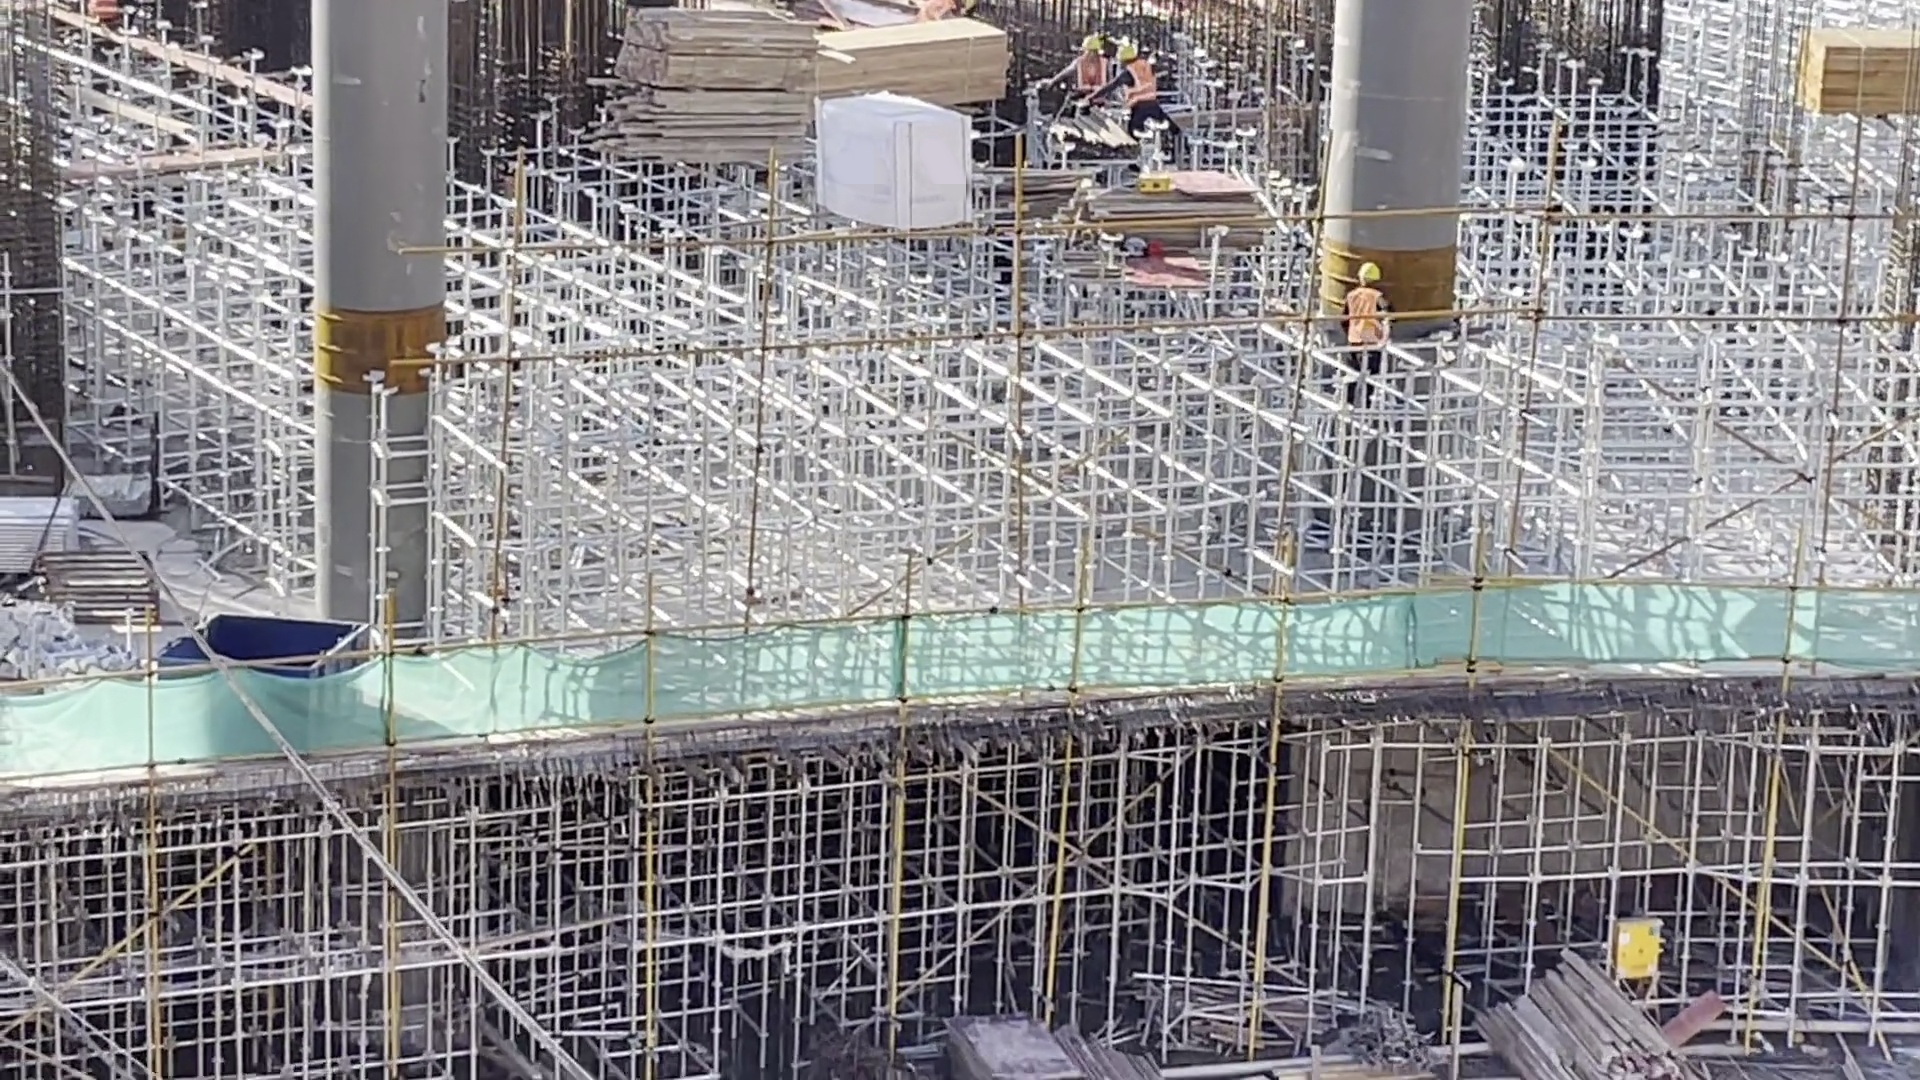board: (1096, 169, 1264, 286)
ebox: (1605, 909, 1659, 992)
helmet: (1356, 261, 1380, 283), (1115, 38, 1140, 56), (1079, 36, 1104, 51)
hopper: (156, 609, 373, 686)
person: (1111, 37, 1185, 149), (1338, 261, 1392, 378), (1065, 34, 1111, 130)
vest: (1344, 288, 1381, 342), (1118, 59, 1158, 105), (1074, 54, 1108, 93)
wood: (592, 1, 814, 163), (1476, 945, 1691, 1080), (815, 27, 1008, 109), (1795, 24, 1920, 123)
